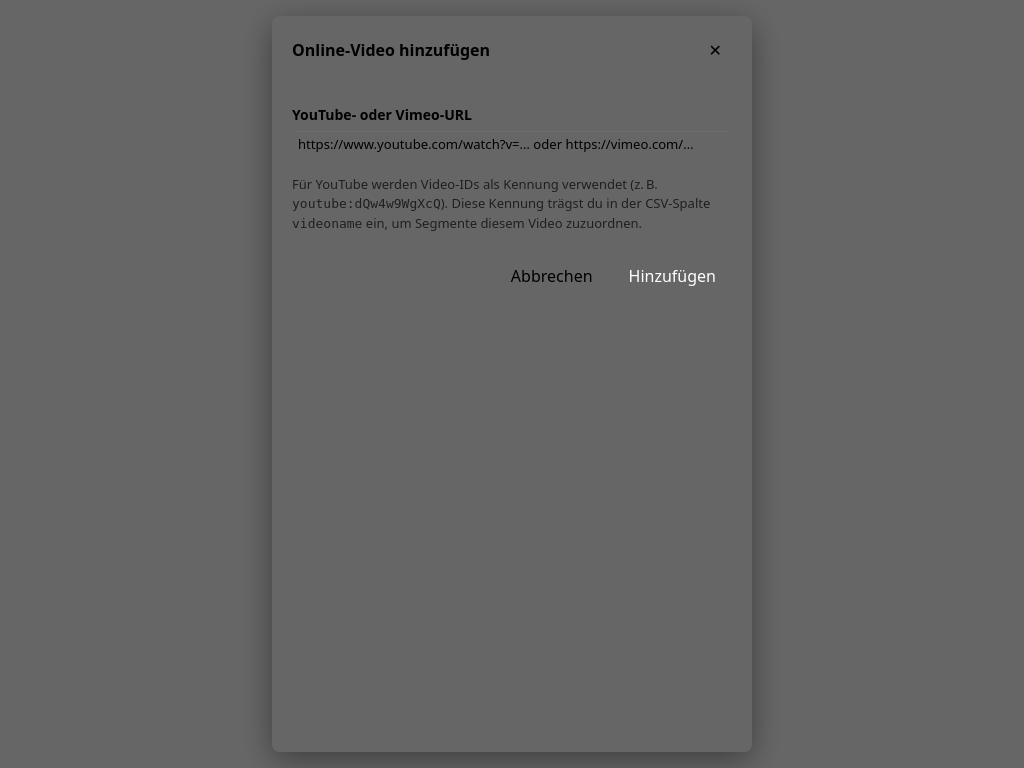
Test case: AddOnlineVideoDialog – validation › shows an error for an unrecognized URL
Step 1. Type "https://example.com/video" into the field labelled "YouTube- oder Vimeo-URL" → coordinates (512, 145), box [292, 131, 732, 159]
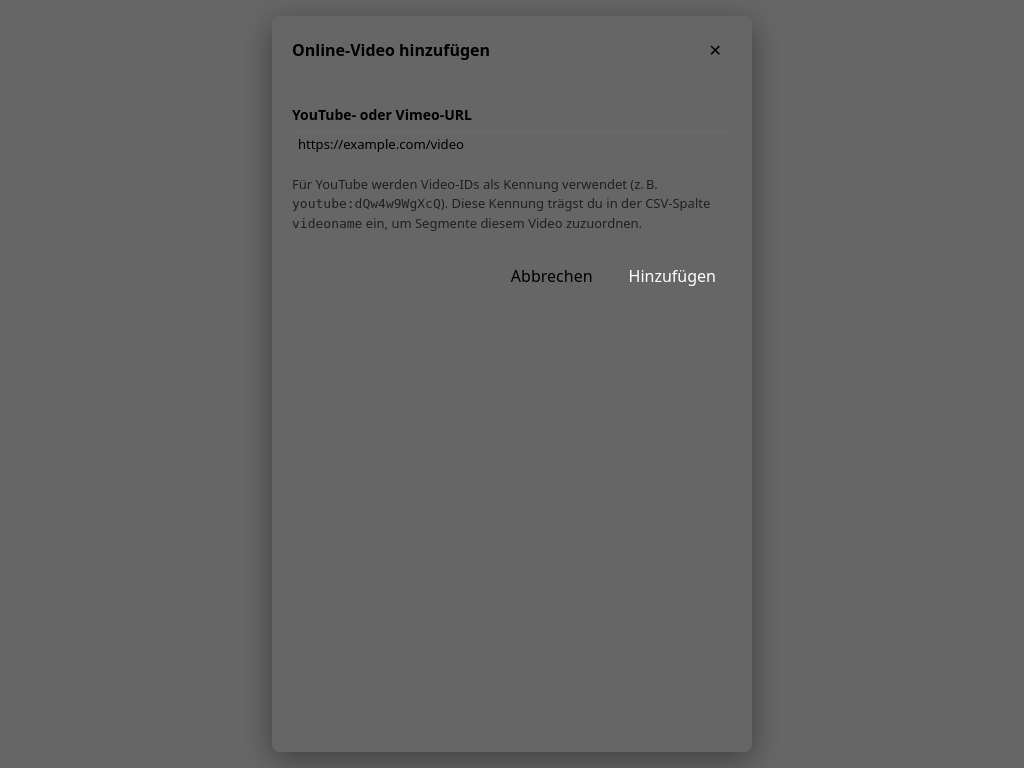
Step 2. Click the button "Hinzufügen" → coordinates (672, 276), box [613, 253, 732, 299]
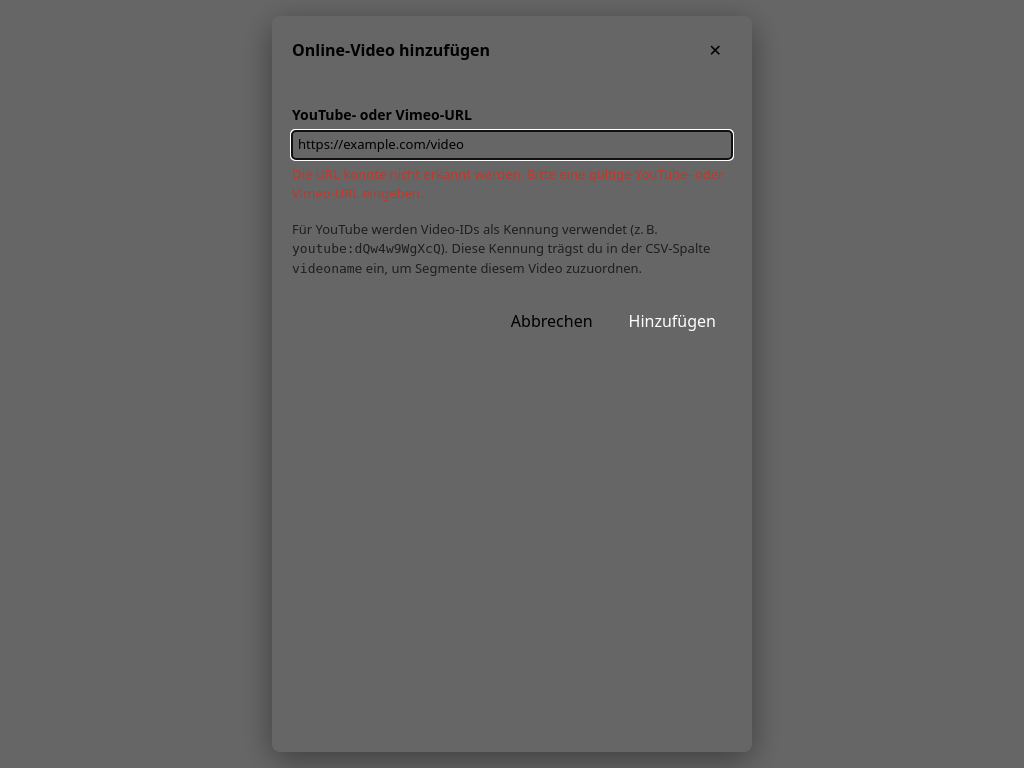
Expected: the message shows "konnte nicht erkannt werden", [292, 165, 724, 202]
